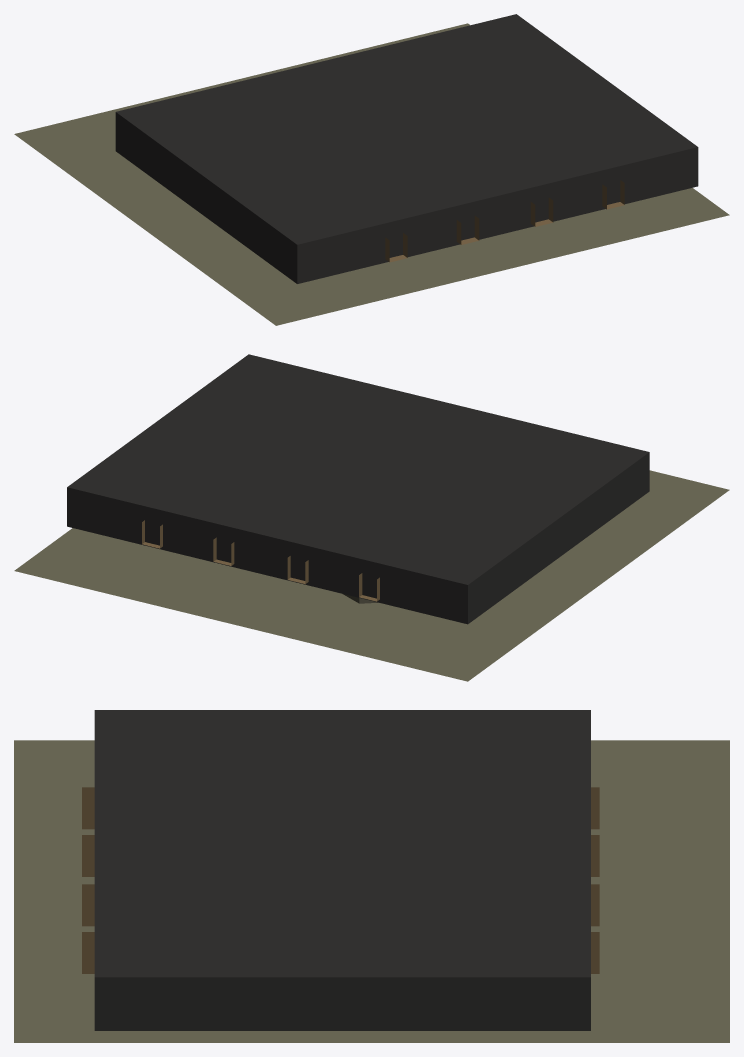
The model's file is AI_Env_Roof_01_Hole_02.fbx.
The picture shows the model from 3 angles, top to bottom: view 1: azimuth 30°, elevation 25°; view 2: azimuth 150°, elevation 25°; view 3: azimuth 270°, elevation 25°; orthographic projection. The views are drawn at different scales.
Parts seen in each view (by area): view 1: AI_Env_Roof_01_Hole_02; view 2: AI_Env_Roof_01_Hole_02; view 3: AI_Env_Roof_01_Hole_02.
Boxes of the visible parts, box(x1,y1,x2,y2) form: AI_Env_Roof_01_Hole_02: box(14, 14, 729, 325); AI_Env_Roof_01_Hole_02: box(14, 354, 729, 681); AI_Env_Roof_01_Hole_02: box(14, 710, 729, 1042).
Size of the model in its own units: 5 by 0.8104 by 5.
